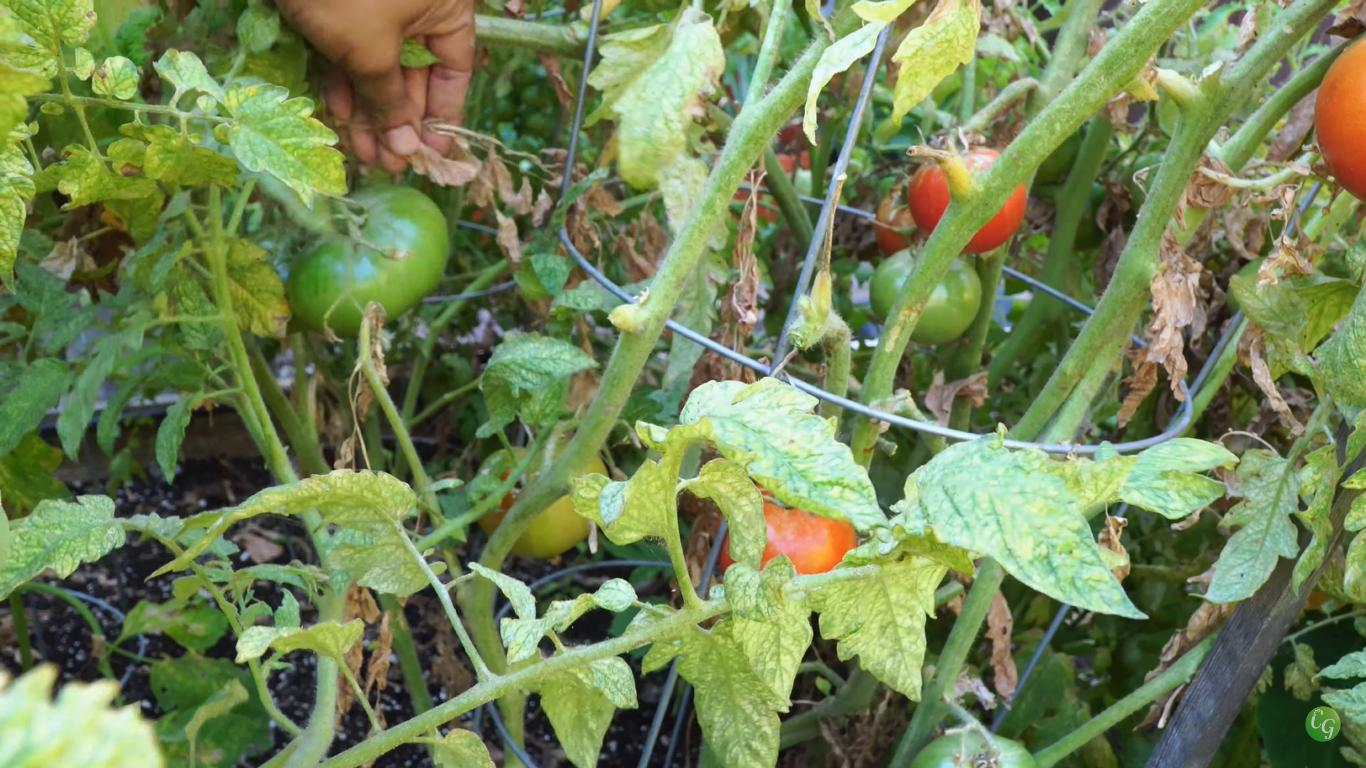Spider Mites: (883, 429, 1149, 619), (649, 369, 894, 533), (145, 467, 439, 596), (587, 0, 726, 190), (640, 614, 781, 768), (216, 80, 351, 213), (1192, 450, 1301, 605), (808, 568, 928, 703), (0, 492, 127, 602), (723, 556, 811, 711), (886, 0, 985, 130), (1119, 435, 1242, 519), (686, 455, 767, 573), (481, 329, 601, 396), (0, 0, 100, 79), (1292, 443, 1338, 599), (0, 120, 36, 296), (497, 614, 561, 667), (588, 652, 639, 710), (89, 52, 140, 102)
